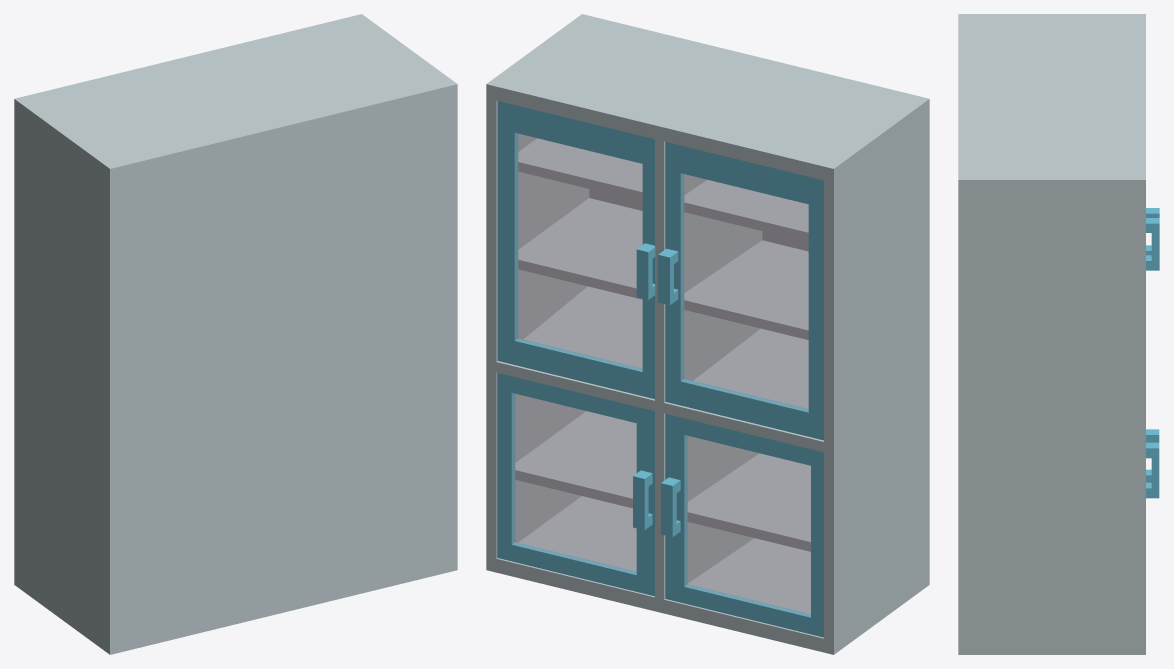
File: LemariKaca.fbx
The picture shows the model from 3 angles, left to right: view 1: azimuth 30°, elevation 25°; view 2: azimuth 150°, elevation 25°; view 3: azimuth 270°, elevation 25°; orthographic projection. The views are drawn at different scales.
Visible parts, largest first — view 1: Cube.005; view 2: Cube.005; view 3: Cube.005.
Boxes of the visible parts, <box> form: Cube.005: <box>14,14,457,654</box>; Cube.005: <box>486,14,929,654</box>; Cube.005: <box>958,14,1159,654</box>.
Size of the model in its own units: 175 by 234 by 89.96.
